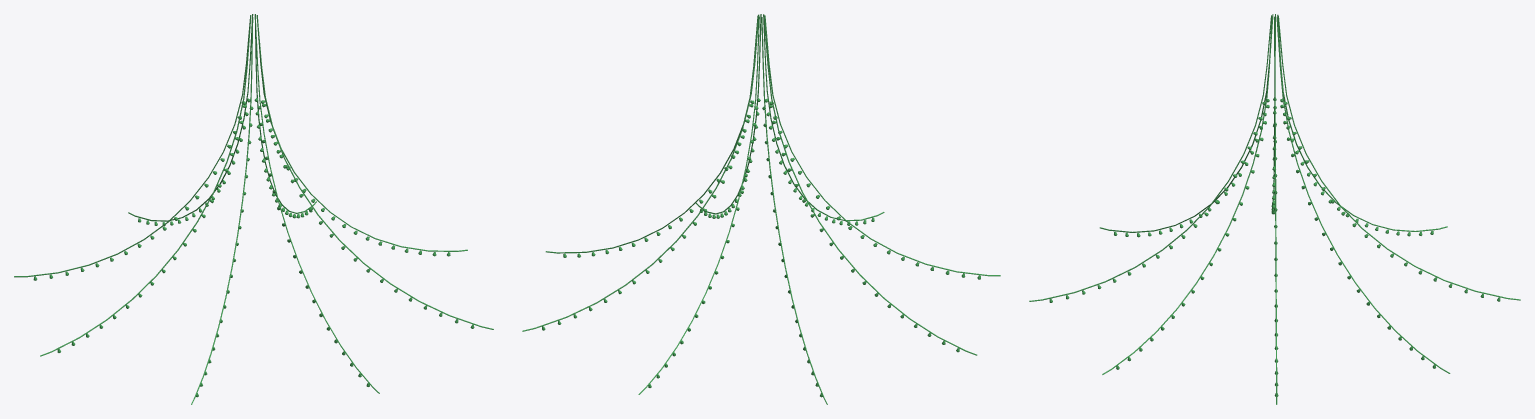
Rendered from Wreath Tent.fbx.
3 renders of one model, left to right at view 1: azimuth 30°, elevation 25°; view 2: azimuth 150°, elevation 25°; view 3: azimuth 270°, elevation 25°, orthographic.
Visible parts, largest first — view 1: pasted__polySurface100; view 2: pasted__polySurface100; view 3: pasted__polySurface100.
Boxes of the visible parts, x1,y1,x2,y2 form: pasted__polySurface100: [14, 14, 493, 404]; pasted__polySurface100: [522, 14, 1000, 404]; pasted__polySurface100: [1029, 14, 1520, 404].
Size of the model in its own units: 121 by 77.89 by 121.
